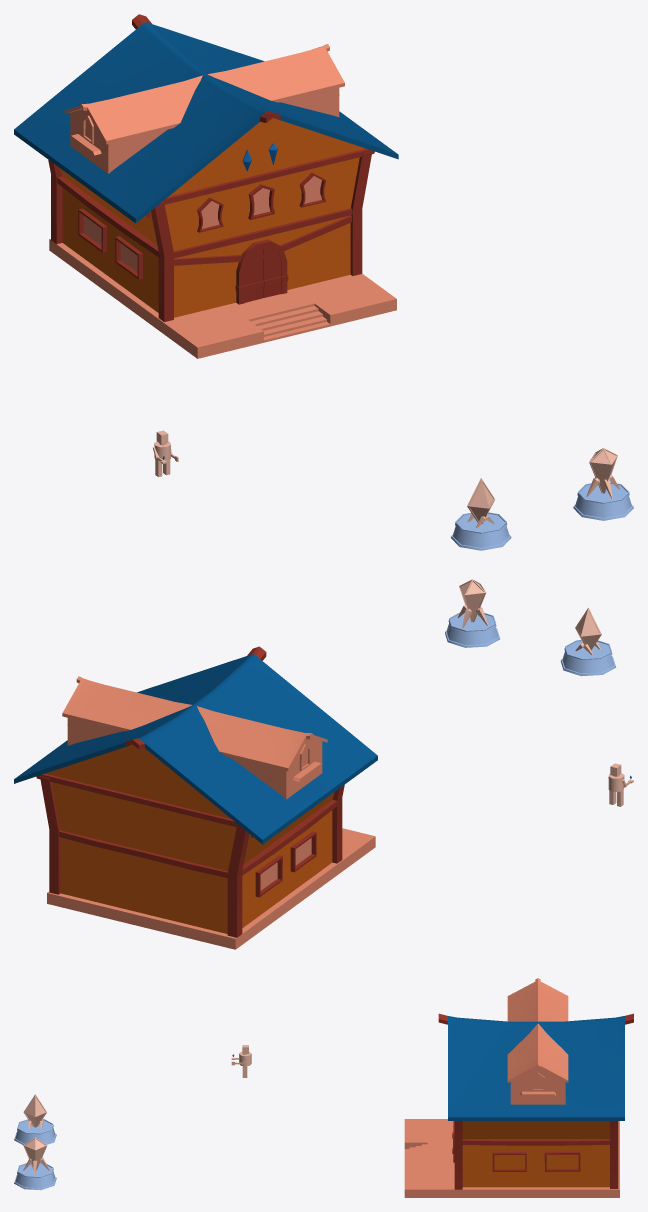
Rendered from casa (1).FBX.
3 renders of one model, top to bottom at view 1: azimuth 30°, elevation 25°; view 2: azimuth 150°, elevation 25°; view 3: azimuth 270°, elevation 25°, orthographic. The views are drawn at different scales.
Visible parts, largest first — view 1: Casa, Escadas, SotãoE, SotãoD, Alicerce (×3), Portão, Torre1, Torre2, Estatua2, Estatua, Personagem; view 2: Casa, SotãoE, Escadas, SotãoD, Alicerce (×3), Torre1, Torre2, Estatua2, Estatua, Personagem; view 3: Casa, Escadas, SotãoD, SotãoE, Alicerce (×2), Torre2, Torre1, Estatua2, Estatua, Personagem.
Part boxes in pixels (x1,y1,x2,y2): Casa: (14, 14, 398, 317); Escadas: (49, 239, 396, 358); SotãoE: (64, 75, 202, 173); SotãoD: (208, 44, 344, 117); Alicerce (×3): (48, 151, 372, 321); Portão: (235, 239, 288, 304); Torre1: (451, 512, 511, 550); Torre2: (573, 482, 633, 520); Estatua2: (586, 448, 619, 498); Estatua: (467, 478, 495, 527); Personagem: (153, 430, 178, 477); Casa: (14, 646, 377, 933); SotãoE: (197, 706, 327, 799); Escadas: (47, 828, 375, 949); SotãoD: (62, 676, 192, 745); Alicerce (×3): (40, 776, 344, 937); Torre1: (560, 640, 616, 676); Torre2: (445, 612, 500, 647); Estatua2: (457, 579, 488, 628); Estatua: (575, 607, 601, 654); Personagem: (608, 763, 633, 806); Casa: (438, 1013, 633, 1187); Escadas: (404, 1119, 619, 1197); SotãoD: (507, 1023, 568, 1104); SotãoE: (507, 978, 568, 1021); Alicerce (×2): (454, 1121, 618, 1189); Torre2: (14, 1162, 56, 1190); Torre1: (14, 1119, 56, 1144); Estatua2: (23, 1137, 49, 1175); Estatua: (23, 1094, 46, 1129); Personagem: (231, 1045, 251, 1077).
Bounding box in the file's own units: 693 × 353 × 1333.
